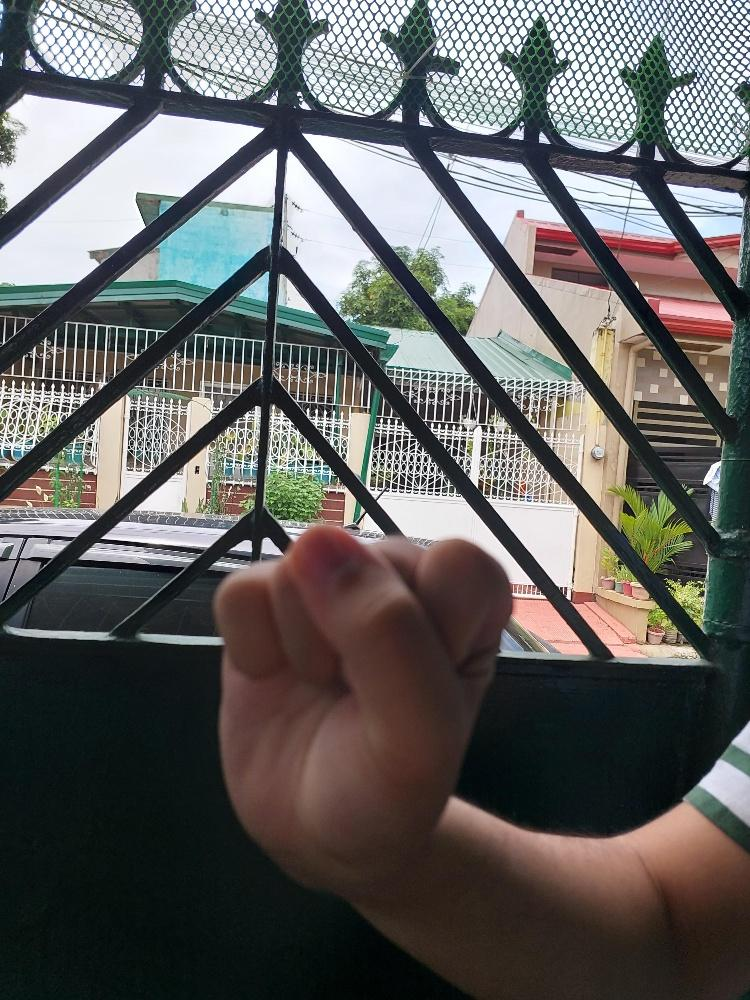s: (210, 519, 517, 867)
